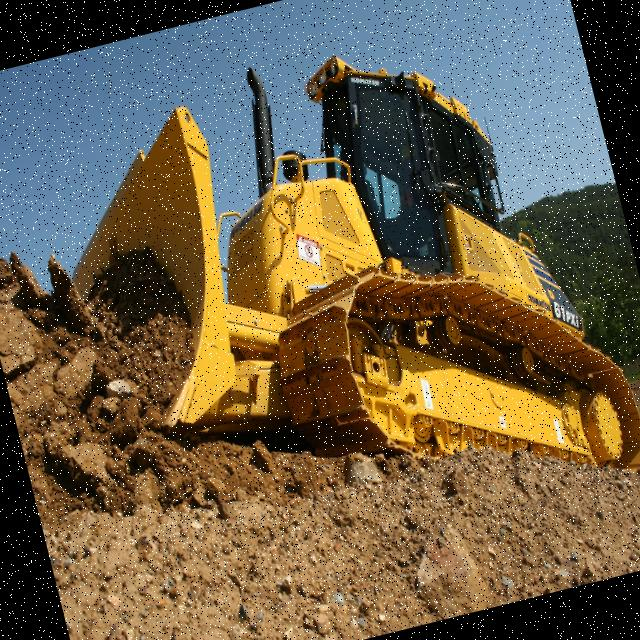Bulldozer: (30, 0, 640, 601)
